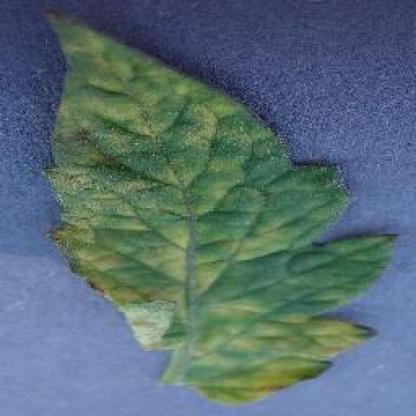Tomato_Leaf_Mold: (28, 4, 402, 401)
